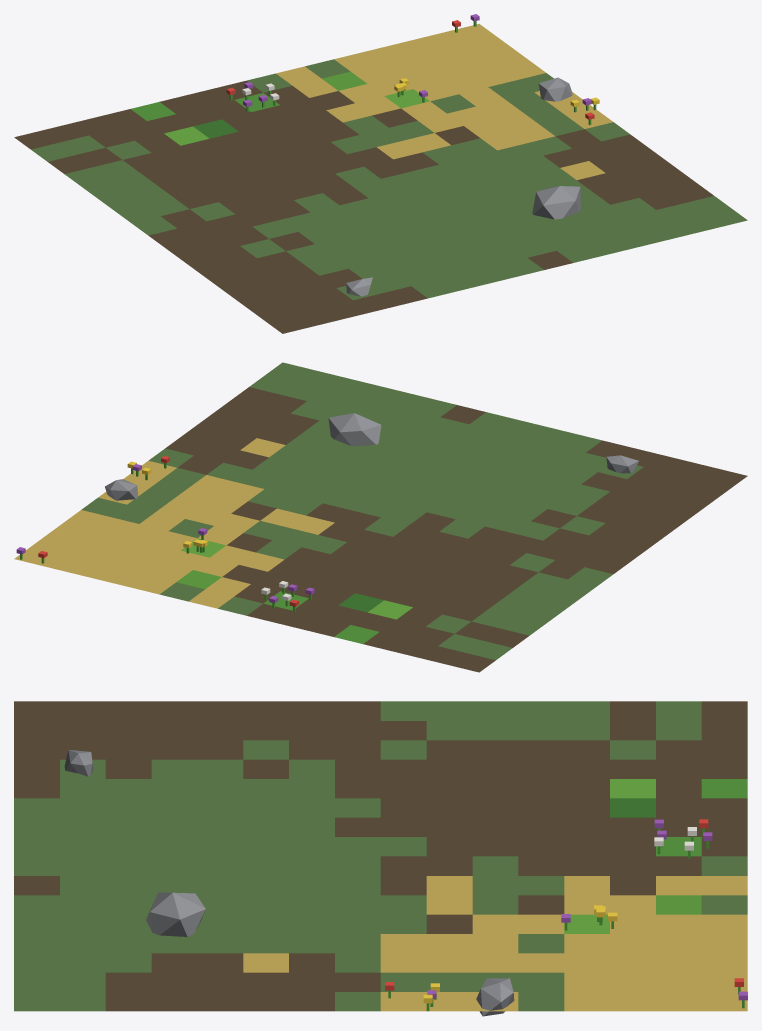
The model's file is chunk_0_14.glb.
The picture shows the model from 3 angles, top to bottom: view 1: azimuth 30°, elevation 25°; view 2: azimuth 150°, elevation 25°; view 3: azimuth 270°, elevation 25°; orthographic projection. The views are drawn at different scales.
Parts seen in each view (by area): view 1: chunk_0_14; view 2: chunk_0_14; view 3: chunk_0_14.
Part boxes in pixels (<box>): chunk_0_14: <box>14,14,747,333</box>; chunk_0_14: <box>14,362,747,672</box>; chunk_0_14: <box>14,701,747,1016</box>.
Size of the model in its own units: 16.06 by 1.17 by 16.01.
